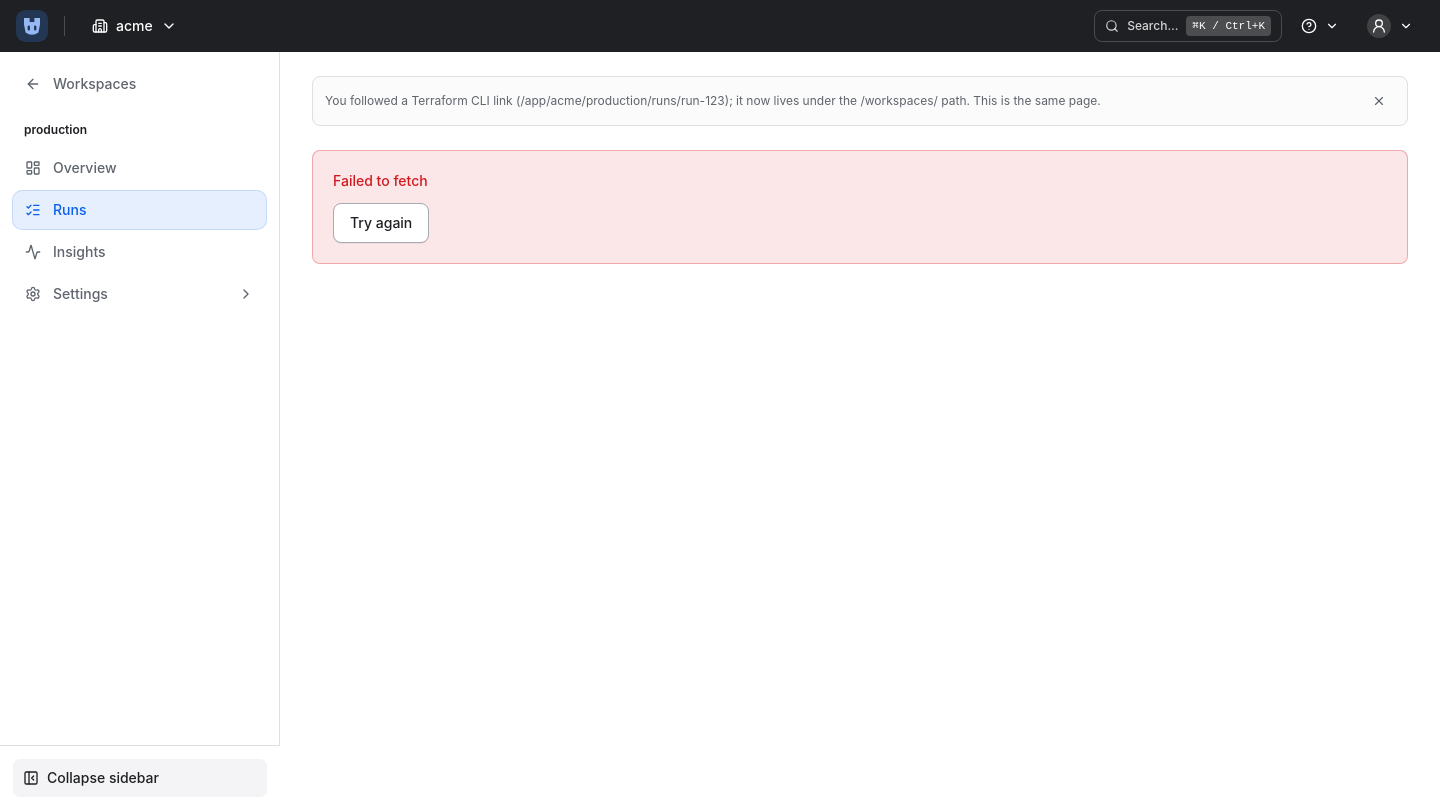
a legacy redirect shows a one-time dismissible notice (issue #641)
Expected: the text "You followed a Terraform CLI link" shows "/app/acme/production/runs/run-123", x1=520 y1=93 x2=725 y2=108
Click the button named "Dismiss redirect notice" at [1379, 101], box x1=1363 y1=85 x2=1395 y2=117
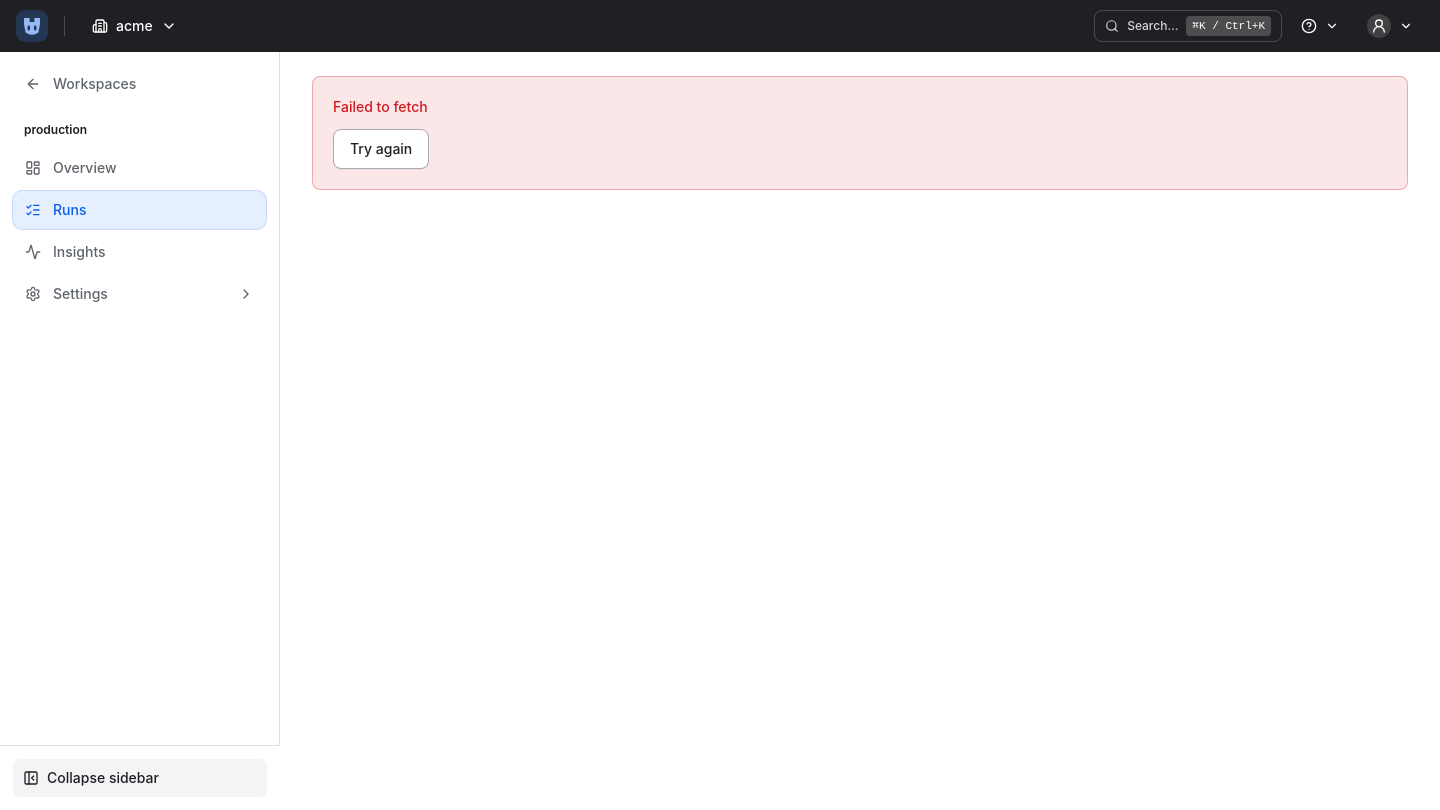
Expected: the text "You followed a Terraform CLI link" is gone
